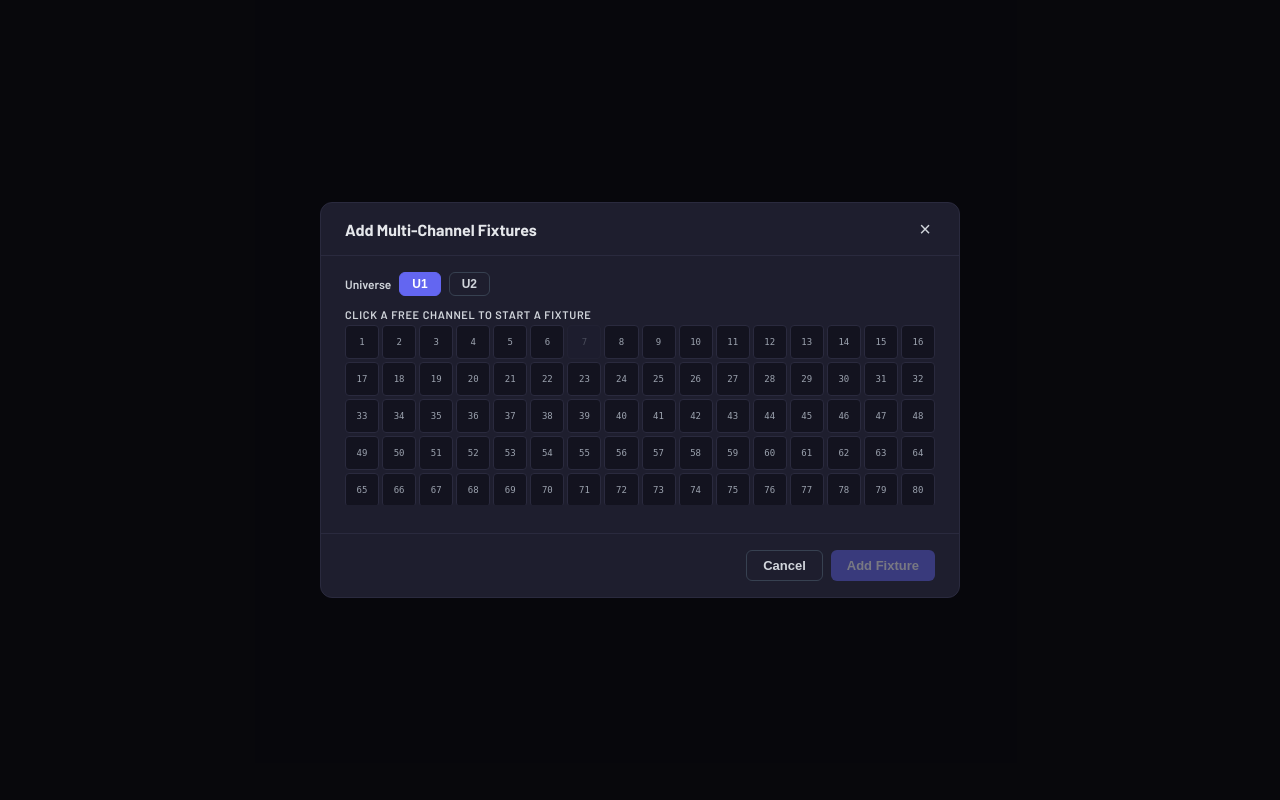
Test: AddMultiChannelFixturesModal › rejects a preset that would overflow into an existing fixture and shows a toast
Click the text titled "Channel 5": (510, 342) [493,325,527,359]
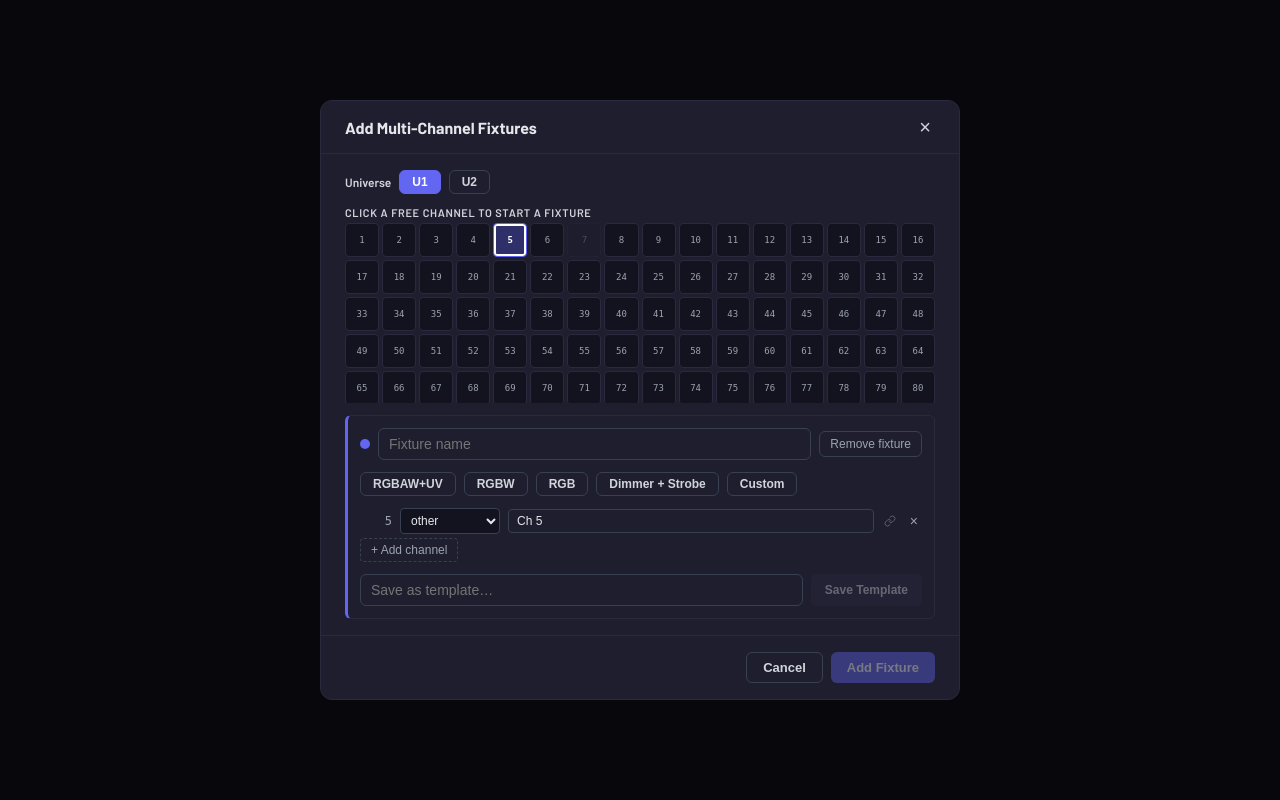
Click the button "RGB": (562, 484) [536,472,588,496]
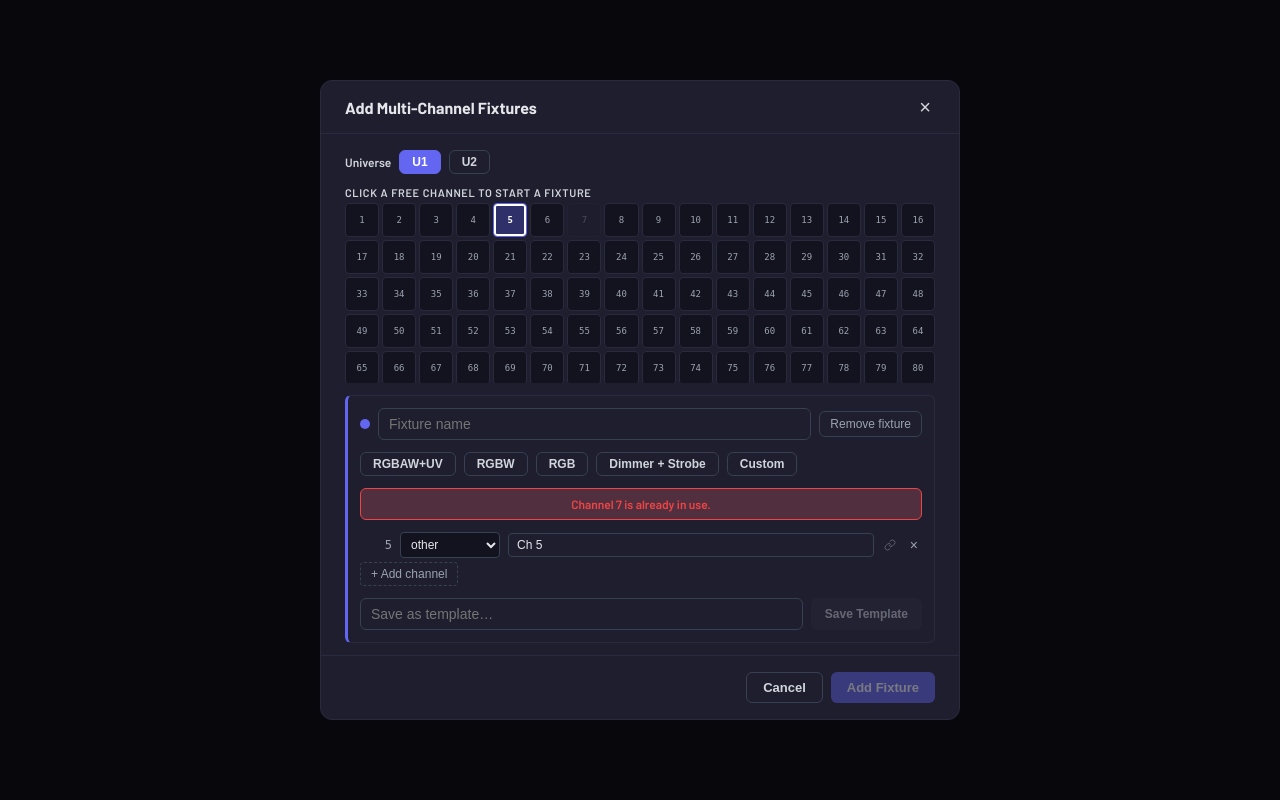
Now the text "Channel 7 is already in use." is shown, box [360,488,922,520]
